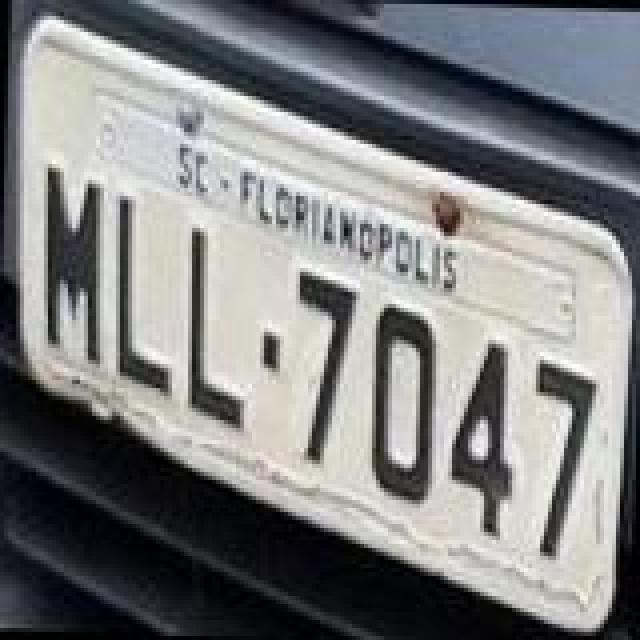4: (448, 338, 520, 542)
7: (528, 356, 600, 564), (292, 266, 364, 470)
L: (108, 190, 180, 402), (182, 224, 250, 432)
M: (36, 160, 108, 368)
O: (366, 302, 442, 506)
